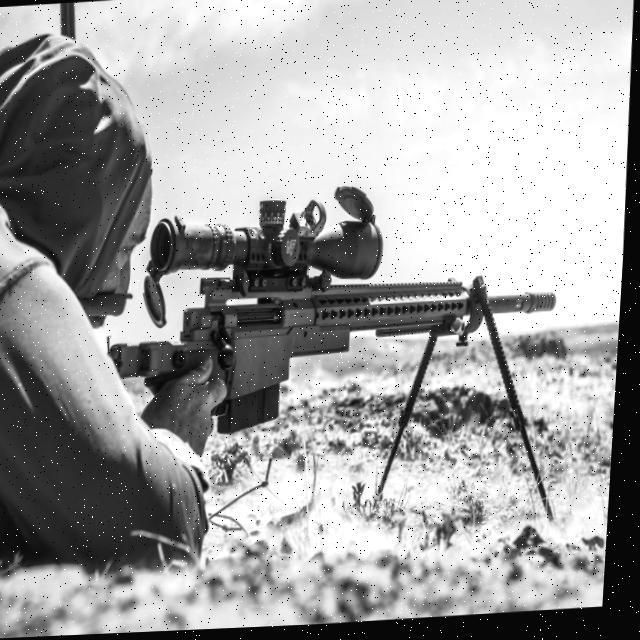firearm: (105, 177, 567, 440)
